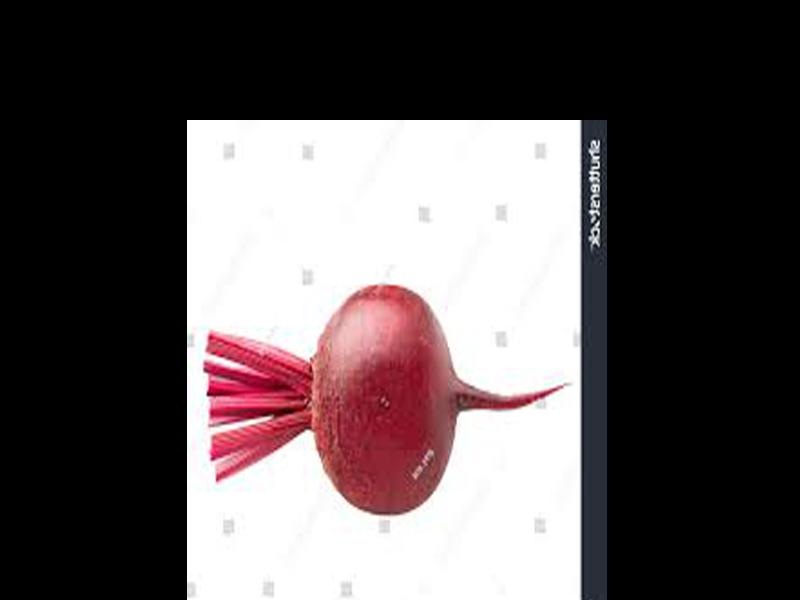Beet: (205, 285, 571, 515)
